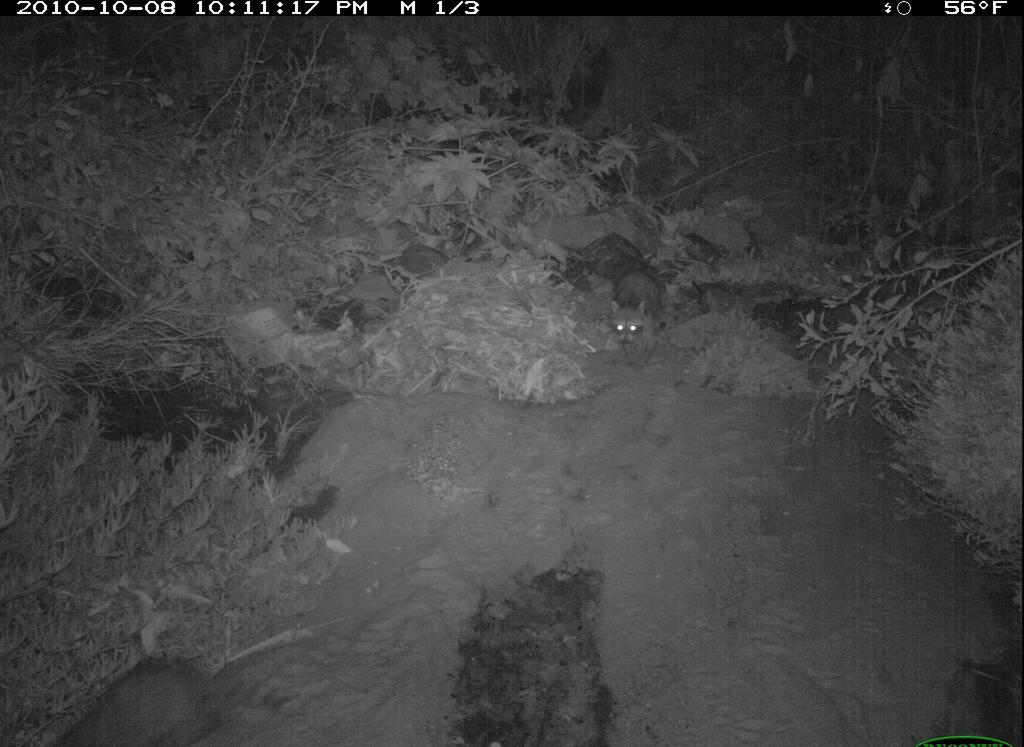raccoon: (49, 647, 274, 747), (603, 263, 678, 381)
